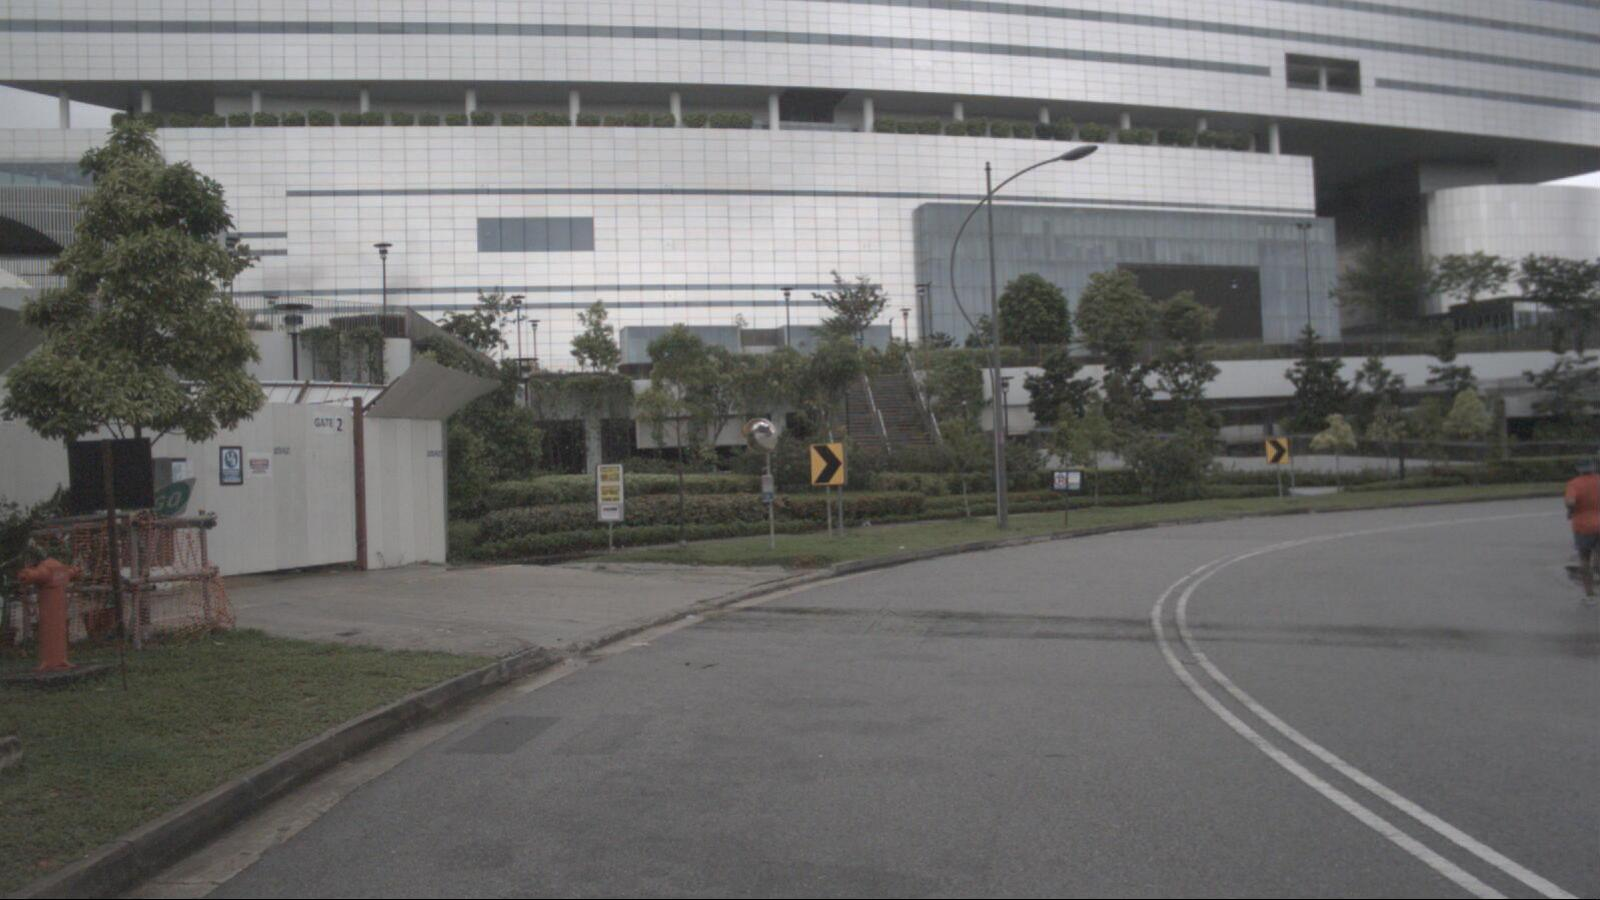human.pedestrian.adult-pedestrian.moving: (1563, 455, 1600, 607)
